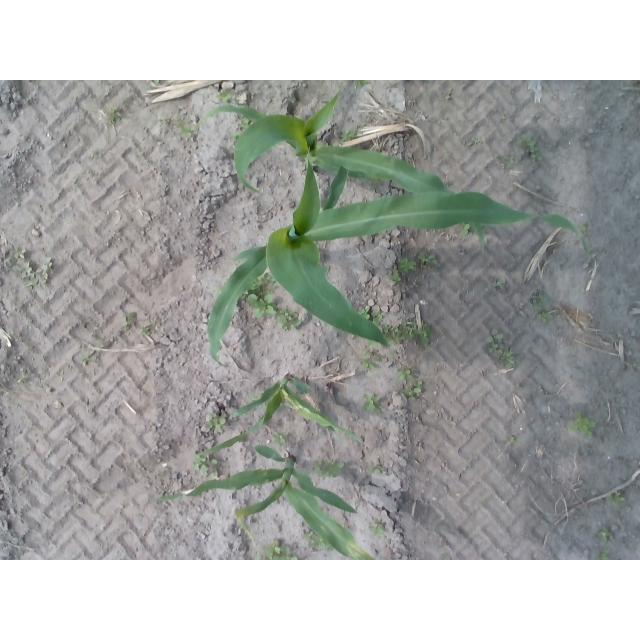Maize: (207, 149, 593, 367), (196, 90, 489, 253), (154, 444, 375, 560), (199, 373, 373, 461)
Weeds: (384, 320, 432, 344), (489, 329, 516, 363), (311, 455, 345, 477), (248, 294, 277, 318), (572, 413, 596, 438), (519, 136, 540, 160), (265, 543, 296, 558), (281, 310, 301, 330), (207, 413, 226, 432), (38, 257, 55, 277), (14, 265, 34, 280), (196, 459, 218, 472), (363, 353, 382, 368), (365, 394, 382, 410), (417, 254, 437, 266), (124, 313, 138, 328), (305, 534, 322, 546), (257, 280, 274, 292), (274, 432, 290, 444), (400, 259, 416, 271), (370, 459, 383, 473), (179, 124, 193, 137), (492, 283, 508, 294), (82, 353, 98, 364), (599, 528, 613, 540), (389, 265, 401, 279), (106, 107, 120, 119), (217, 90, 231, 102), (396, 367, 410, 378), (531, 288, 541, 302), (409, 384, 423, 393), (368, 523, 384, 530), (537, 310, 551, 318), (361, 305, 371, 316), (464, 223, 473, 235), (342, 132, 354, 141), (614, 491, 623, 502), (374, 316, 385, 325), (15, 250, 26, 259), (142, 325, 151, 335), (445, 93, 453, 103), (508, 436, 515, 445), (506, 157, 515, 164), (600, 553, 608, 559)
